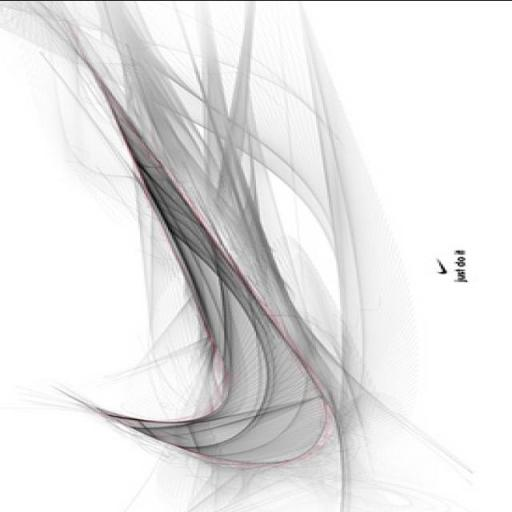Nike: (97, 89, 329, 460)
